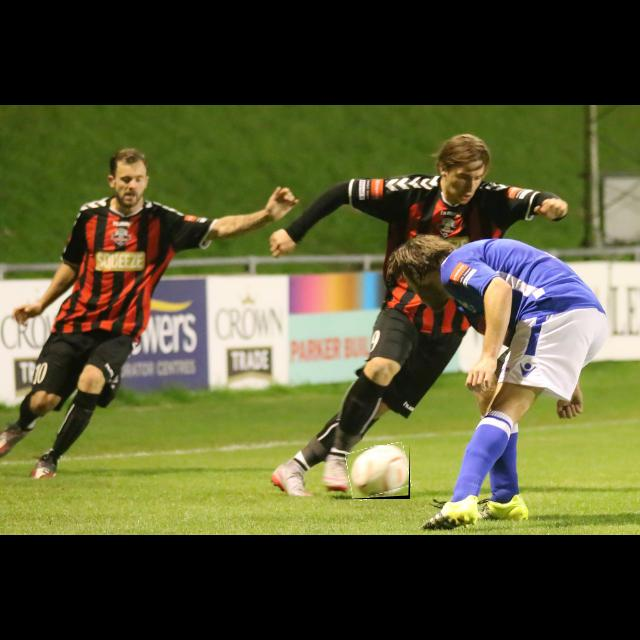Football: (348, 445, 410, 499)
